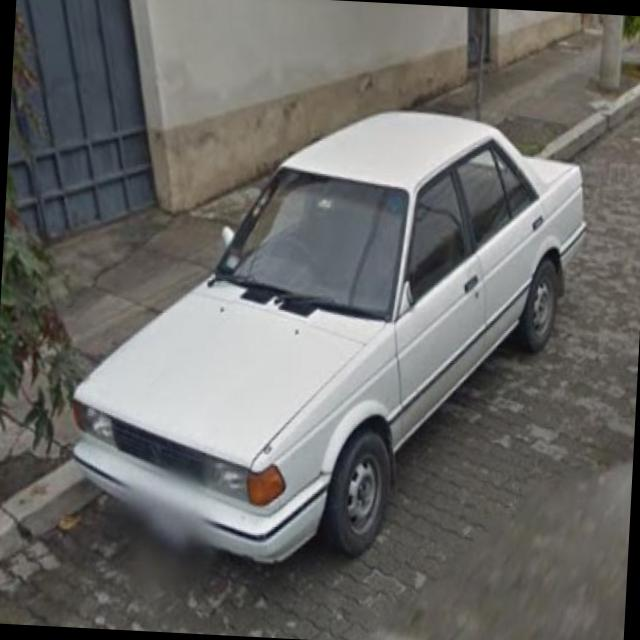car: (55, 70, 600, 560)
